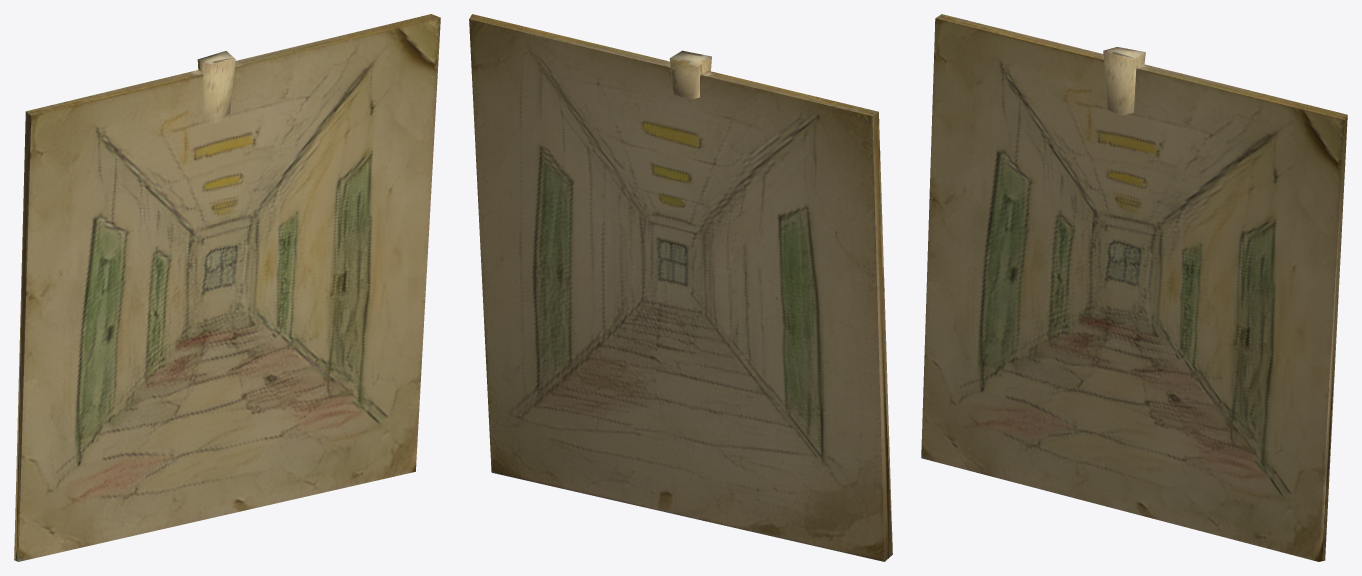
The model's file is picture3.fbx.
The picture shows the model from 3 angles, left to right: view 1: azimuth 30°, elevation 25°; view 2: azimuth 150°, elevation 25°; view 3: azimuth 330°, elevation 25°; orthographic projection.
Visible parts, largest first — view 1: picture3; view 2: picture3; view 3: picture3.
Boxes of the visible parts, bbox=[...] form: picture3: bbox=[14, 14, 440, 561]; picture3: bbox=[469, 14, 892, 561]; picture3: bbox=[921, 14, 1347, 561].
Bounding box in the file's own units: 204 × 213 × 9.25.
1 material, 1 textured.
